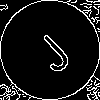J: (25, 25, 75, 76)
